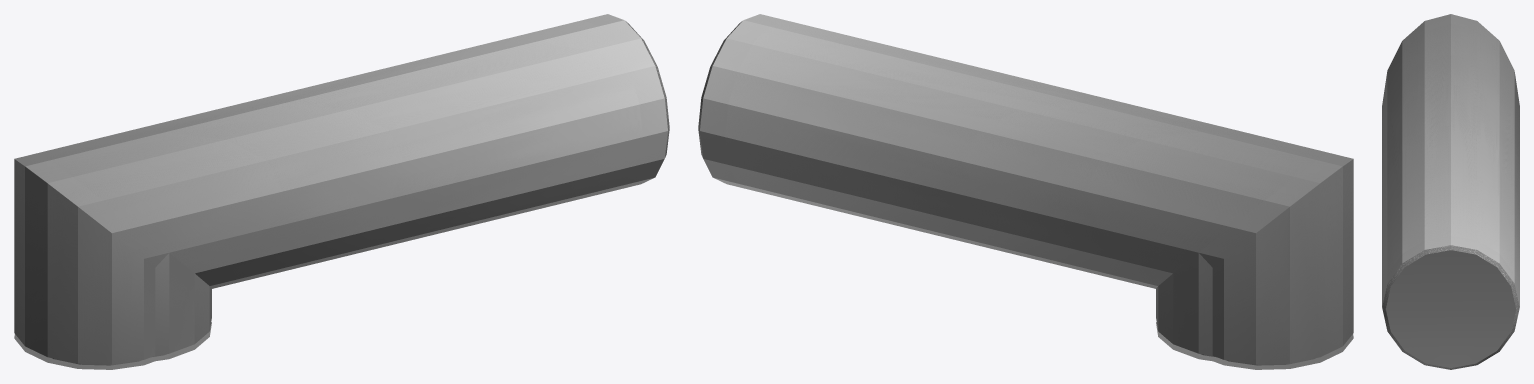
3 views of the same model, side by side, from view 1: azimuth 30°, elevation 25°; view 2: azimuth 150°, elevation 25°; view 3: azimuth 270°, elevation 25° (orthographic). The views are drawn at different scales.
Size of the model in its own units: 0.4591 by 0.1348 by 0.1148.
